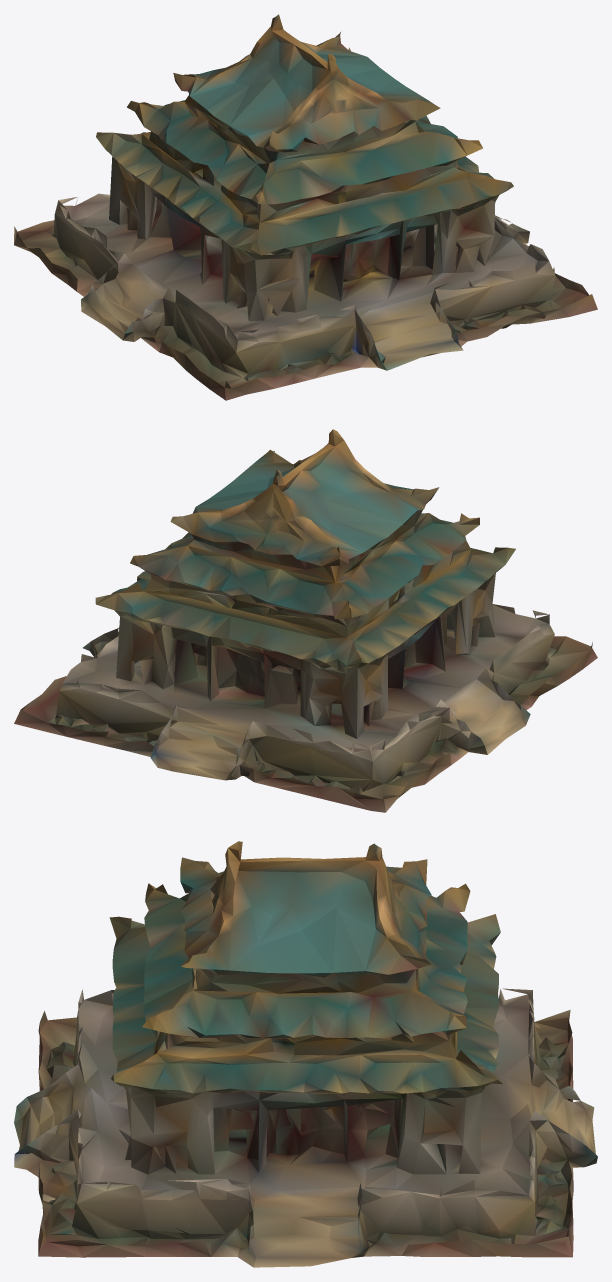
The model's file is bq_thunder_hall.vc.glb.
3 renders of one model, top to bottom at view 1: azimuth 30°, elevation 25°; view 2: azimuth 150°, elevation 25°; view 3: azimuth 270°, elevation 25°, orthographic. The views are drawn at different scales.
Parts seen in each view (by area): view 1: bq_thunder_hall; view 2: bq_thunder_hall; view 3: bq_thunder_hall.
Boxes of the visible parts, x1,y1,x2,y2 form: bq_thunder_hall: (14,14,597,400); bq_thunder_hall: (14,429,597,812); bq_thunder_hall: (14,841,597,1267).
Size of the model in its own units: 1.88 by 1.08 by 1.89.
